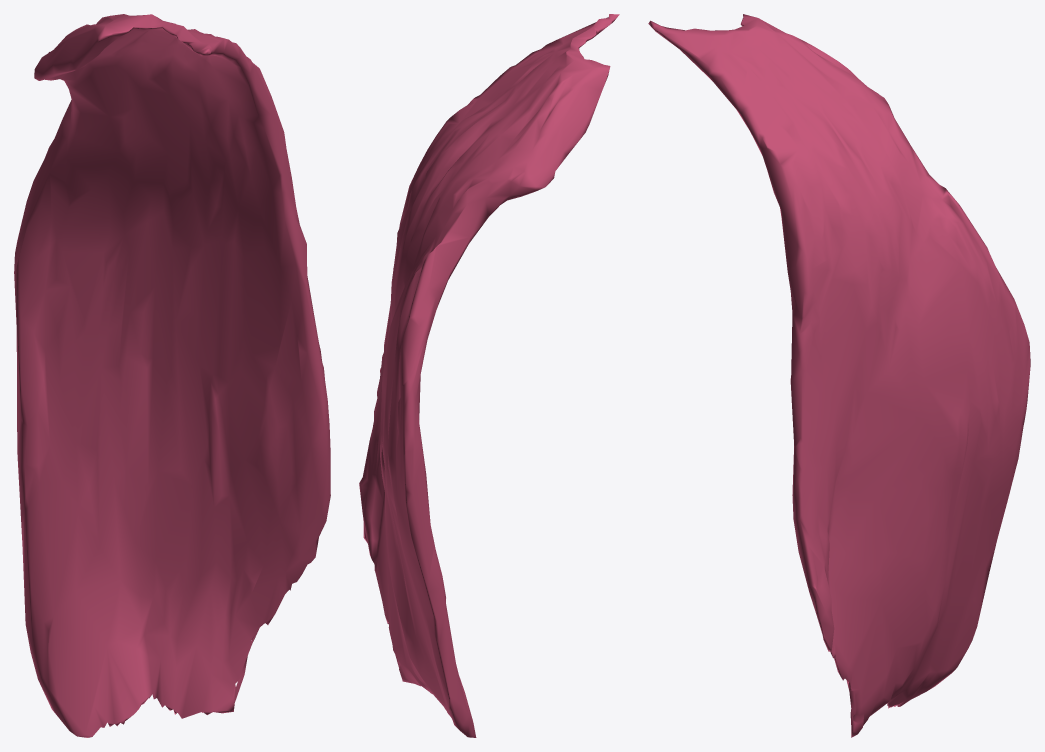
3 views of the same model, side by side, from view 1: azimuth 30°, elevation 25°; view 2: azimuth 150°, elevation 25°; view 3: azimuth 270°, elevation 25° (orthographic). The views are drawn at different scales.
Parts seen in each view (by area): view 1: 左侧耻尾肌; view 2: 左侧耻尾肌; view 3: 左侧耻尾肌.
Part boxes in pixels (x1=…): 左侧耻尾肌: x1=14, y1=14, x2=330, y2=737; 左侧耻尾肌: x1=359, y1=14, x2=619, y2=737; 左侧耻尾肌: x1=648, y1=14, x2=1030, y2=737.
Size of the model in its own units: 0.0491 by 0.1378 by 0.0711.
